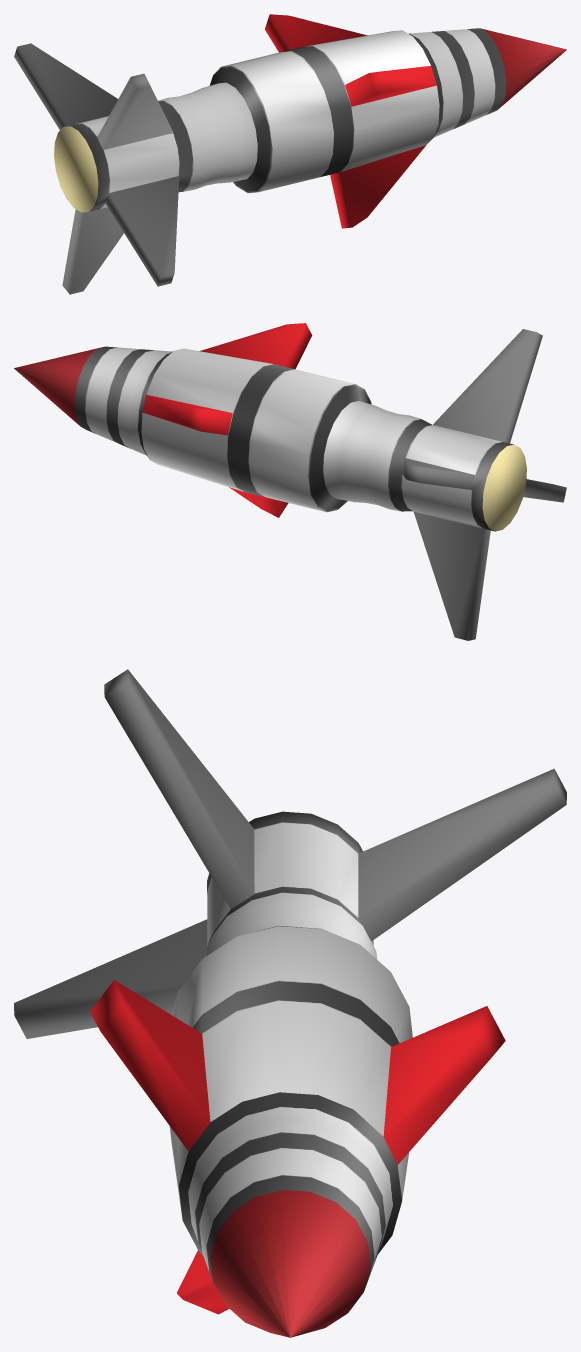
Rendered from missile-red.obj.
3 renders of one model, top to bottom at view 1: azimuth 30°, elevation 25°; view 2: azimuth 150°, elevation 25°; view 3: azimuth 270°, elevation 25°, orthographic. The views are drawn at different scales.
Visible parts, largest first — view 1: Cylinder001; view 2: Cylinder001; view 3: Cylinder001.
Part boxes in pixels (<box>): Cylinder001: <box>14,14,566,294</box>; Cylinder001: <box>14,323,566,640</box>; Cylinder001: <box>14,669,566,1337</box>.
Bounding box in the file's own units: 20.72 × 10.6 × 10.76.
Materials: 1 (1 with a texture image).
